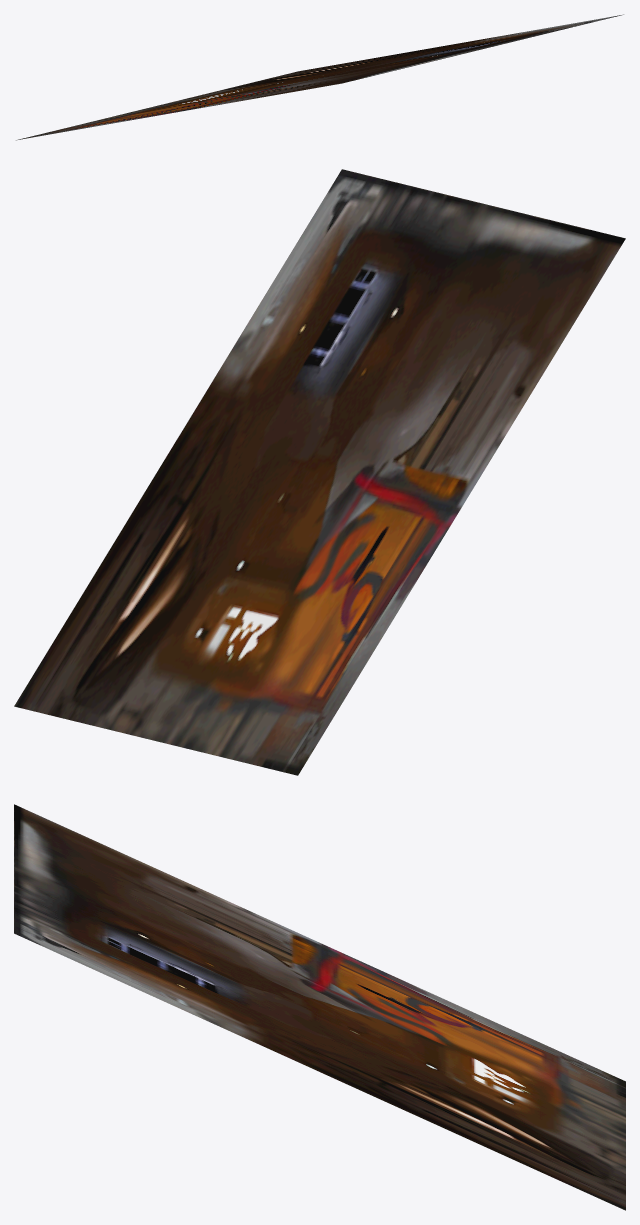
File: Schlucht4x8_Schräg [Favellas]_1464.glb
The picture shows the model from 3 angles, top to bottom: view 1: azimuth 30°, elevation 25°; view 2: azimuth 150°, elevation 25°; view 3: azimuth 270°, elevation 25°; orthographic projection. The views are drawn at different scales.
Visible parts, largest first — view 1: pPlaneShape180; view 2: pPlaneShape180; view 3: pPlaneShape180.
Part boxes in pixels (box(x1,y1,x2,y2)): pPlaneShape180: box(16, 14, 623, 140); pPlaneShape180: box(14, 169, 625, 775); pPlaneShape180: box(14, 804, 625, 1210).
Size of the model in its own units: 1 by 1 by 2.
1 material, 1 textured.
